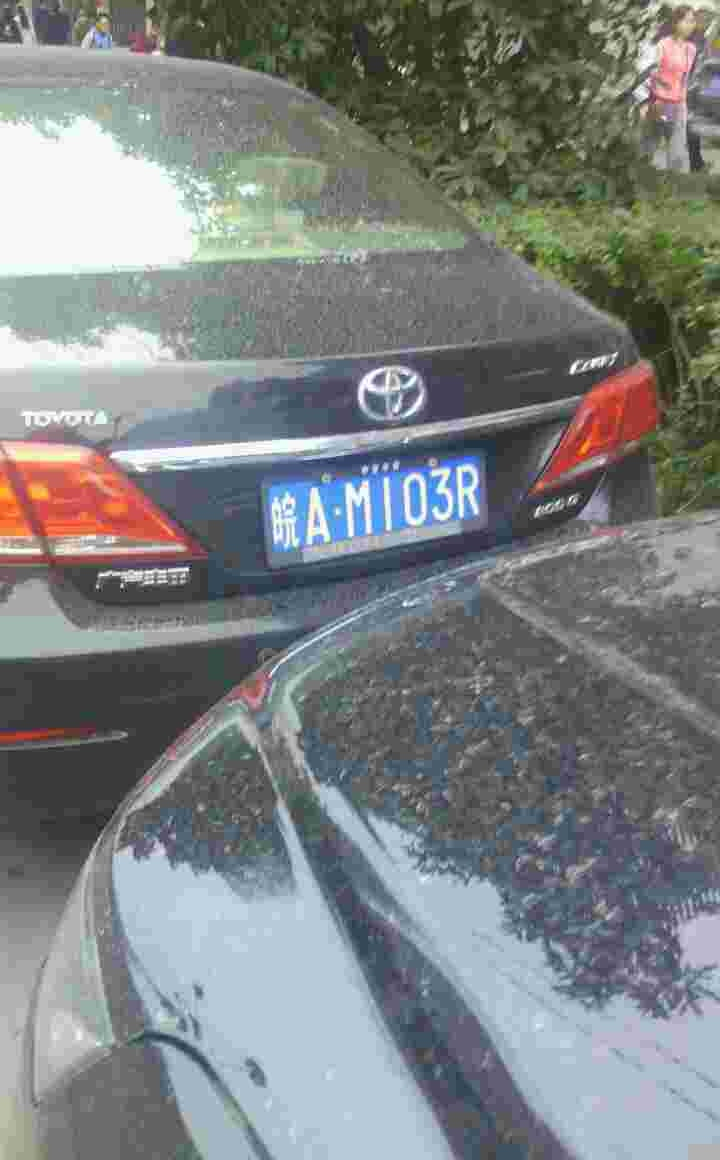license_plate: (267, 456, 482, 561)
